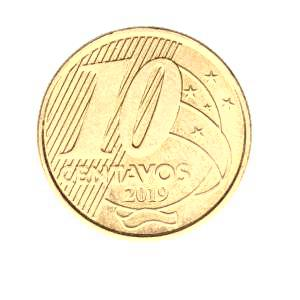10 cent: (36, 25, 252, 237)
